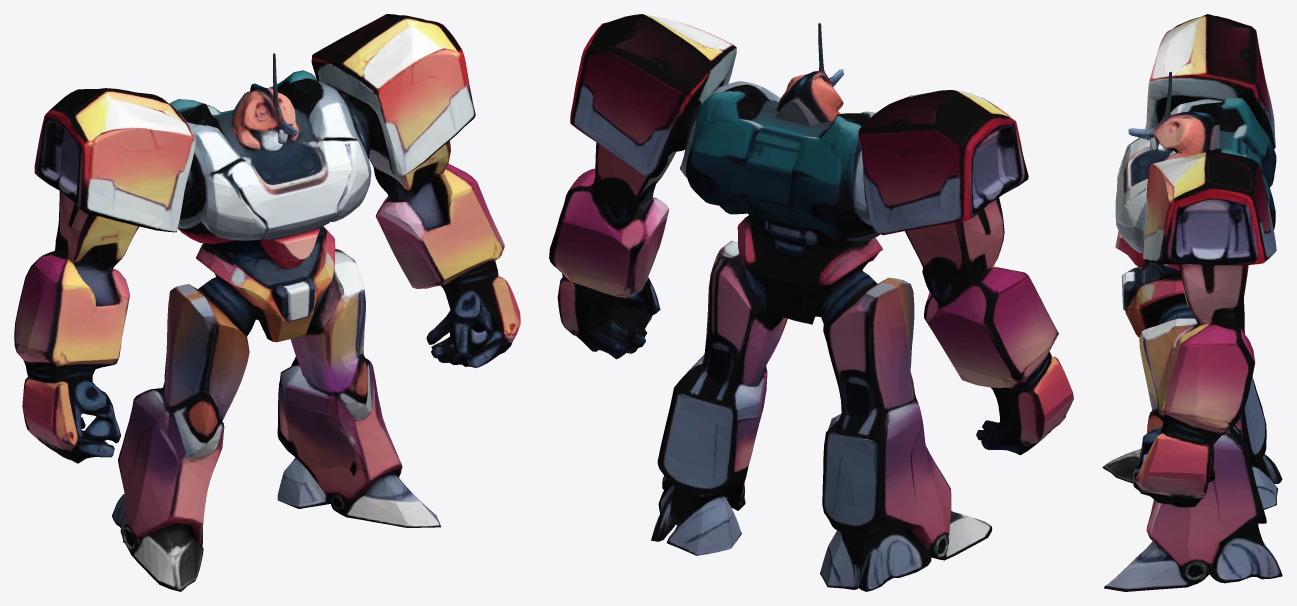
The model's file is robot_large.glb.
The picture shows the model from 3 angles, left to right: view 1: azimuth 30°, elevation 25°; view 2: azimuth 150°, elevation 25°; view 3: azimuth 270°, elevation 25°; orthographic projection. The views are drawn at different scales.
Parts seen in each view (by area): view 1: geometry_0; view 2: geometry_0; view 3: geometry_0.
Boxes of the visible parts, box(x1,y1,x2,y2) form: geometry_0: box(14, 14, 520, 591); geometry_0: box(549, 14, 1073, 591); geometry_0: box(1102, 14, 1282, 591).
Size of the model in its own units: 2.42 by 2.4 by 0.8484.
Materials: 1 (1 with a texture image).
